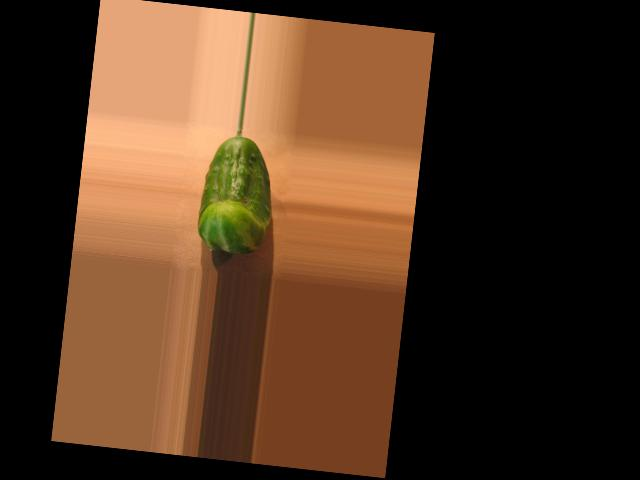cucumber: (194, 132, 278, 256)
